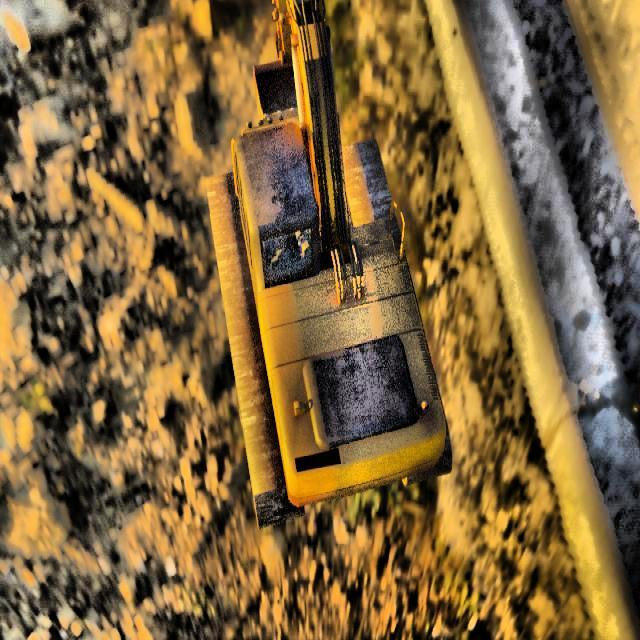excavator: (204, 0, 452, 530)
